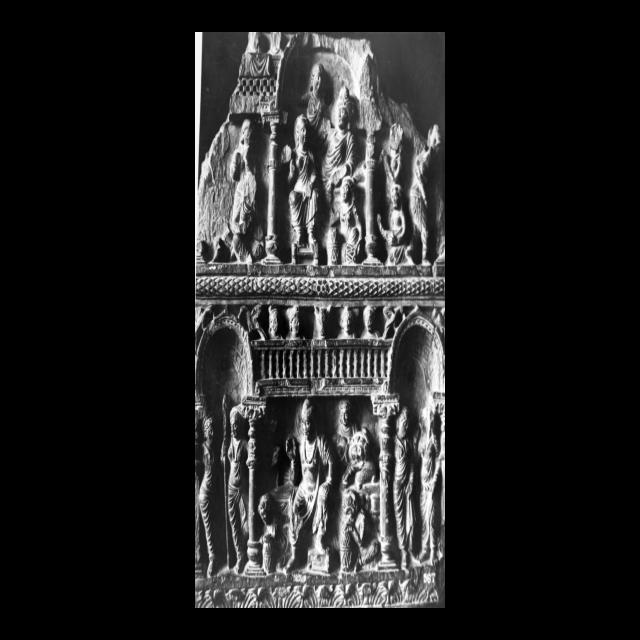buddha-standing: (286, 400, 334, 571), (322, 84, 362, 264)
